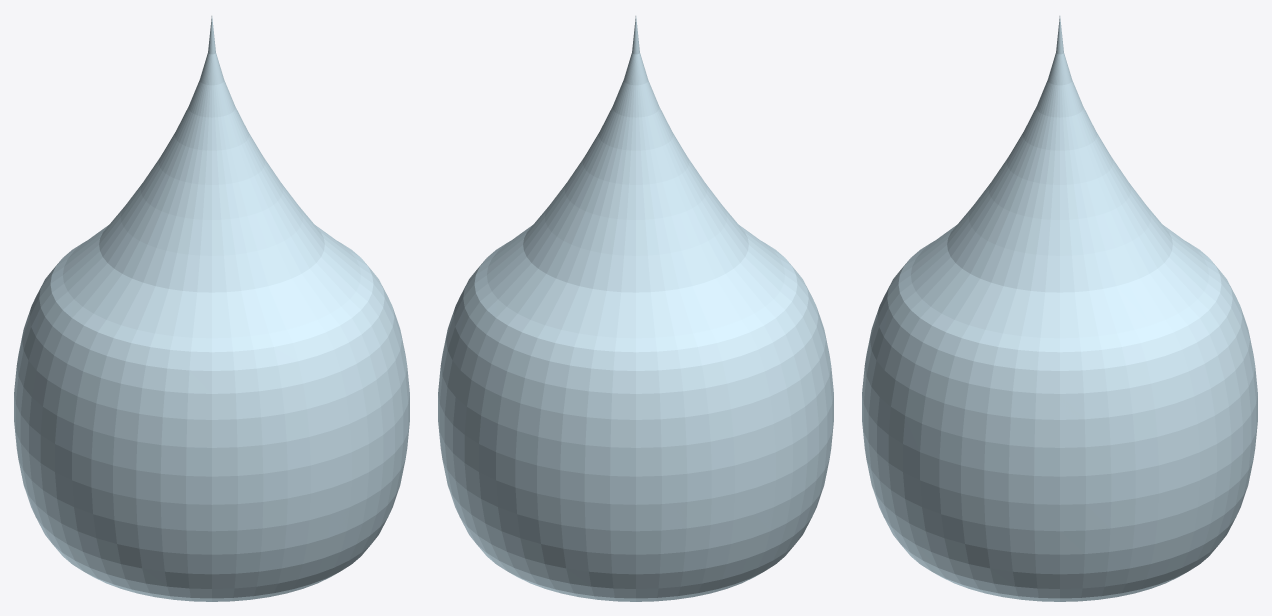
File: glass_drop.obj
The picture shows the model from 3 angles, left to right: view 1: azimuth 30°, elevation 25°; view 2: azimuth 150°, elevation 25°; view 3: azimuth 270°, elevation 25°; orthographic projection.
Size of the model in its own units: 1.6 by 2.35 by 1.6.
